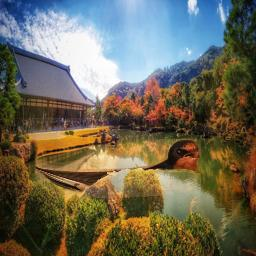Swallow: (35, 138, 201, 198)
